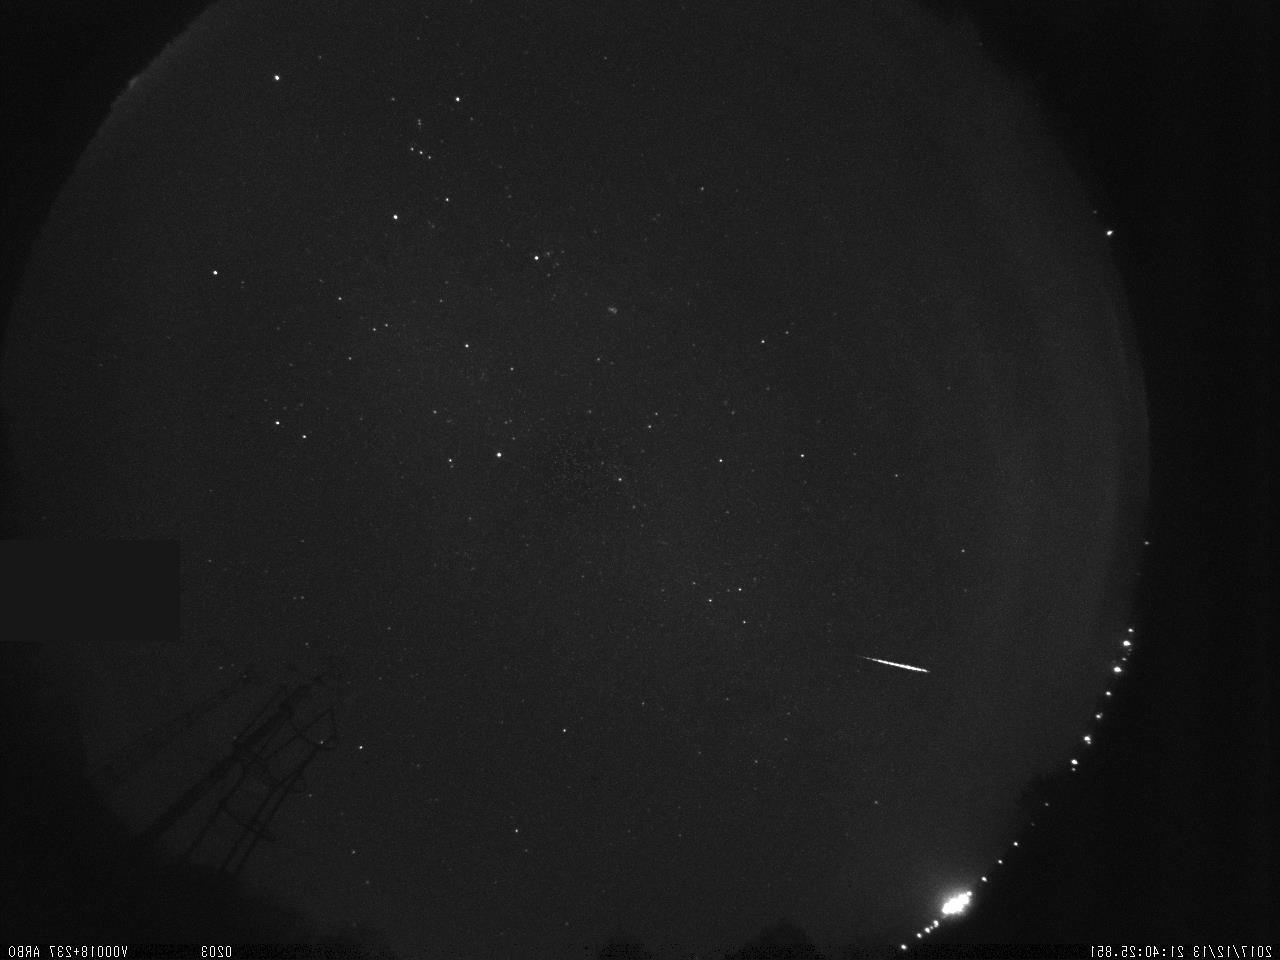meteor: (840, 649, 945, 695)
